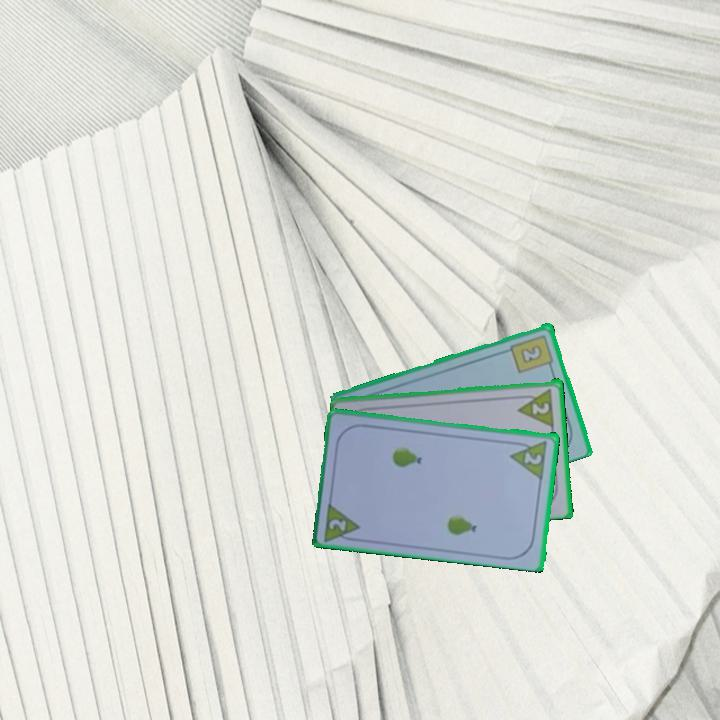2b: (507, 331, 556, 376)
2p: (320, 498, 364, 544), (520, 448, 545, 467), (529, 398, 552, 417)
